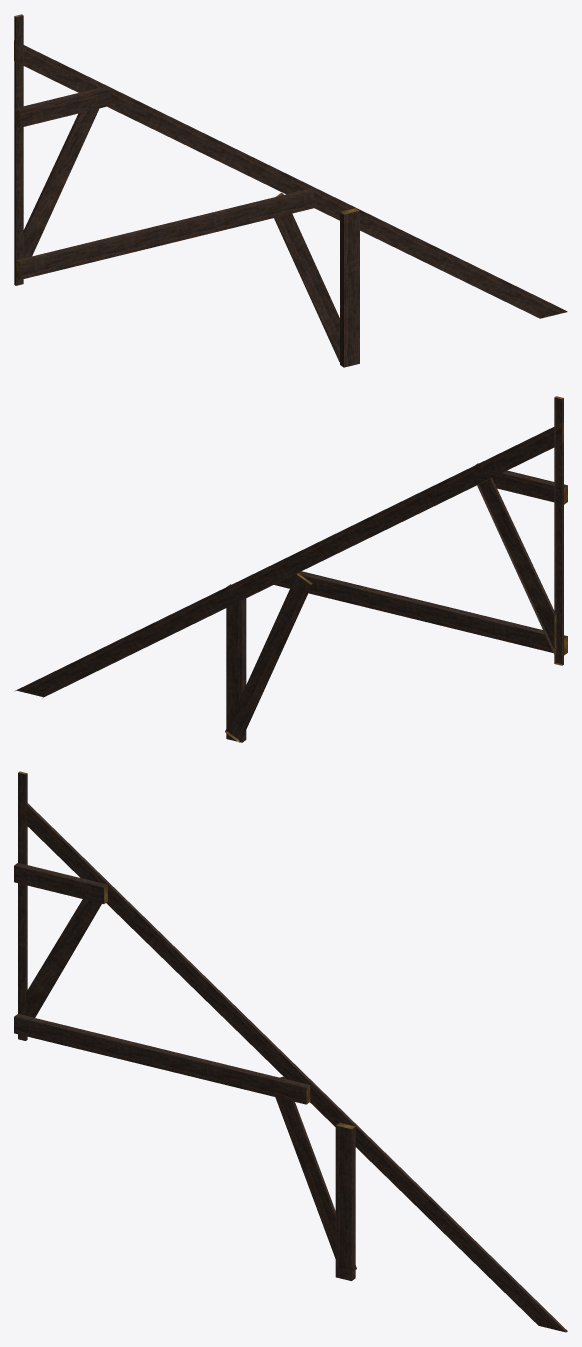
File: attic_spant_02.DAE
3 views of the same model, one above another, from view 1: azimuth 30°, elevation 25°; view 2: azimuth 150°, elevation 25°; view 3: azimuth 330°, elevation 25° (orthographic).
Parts seen in each view (by area): view 1: Box046; view 2: Box046; view 3: Box046.
Part boxes in pixels (box(x1,y1,x2,y2)): Box046: box(14, 14, 567, 367); Box046: box(14, 396, 567, 742); Box046: box(14, 771, 567, 1332).
Size of the model in its own units: 13.87 by 10.3 by 0.2554.
